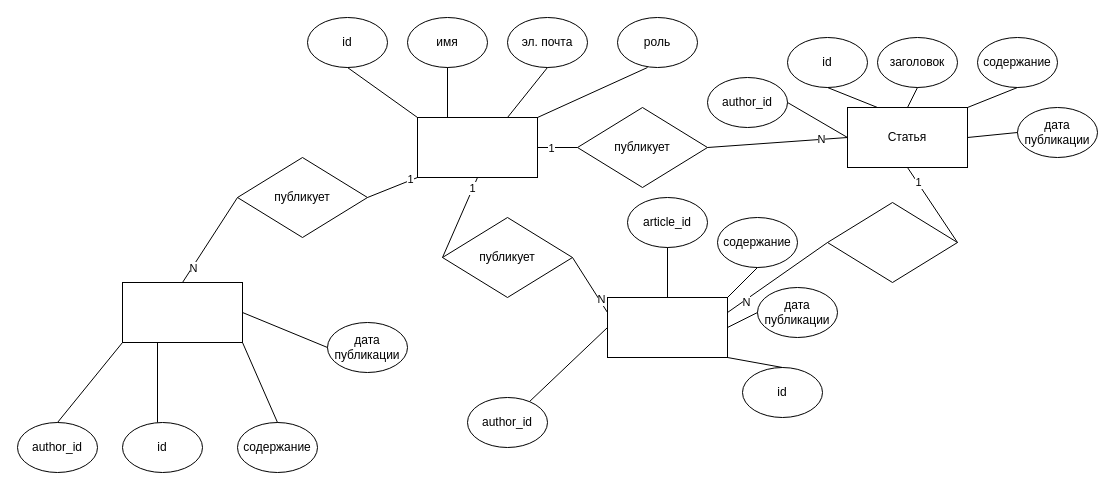
Some shapes in this 1115 by 490 pixel diagram are drawn without their labels. Each missing label, with the box of its shape:
Комментарий: (606, 296, 728, 358)
Пользователь: (416, 116, 538, 178)
содержит: (826, 202, 958, 282)
уведомление: (122, 282, 242, 342)
